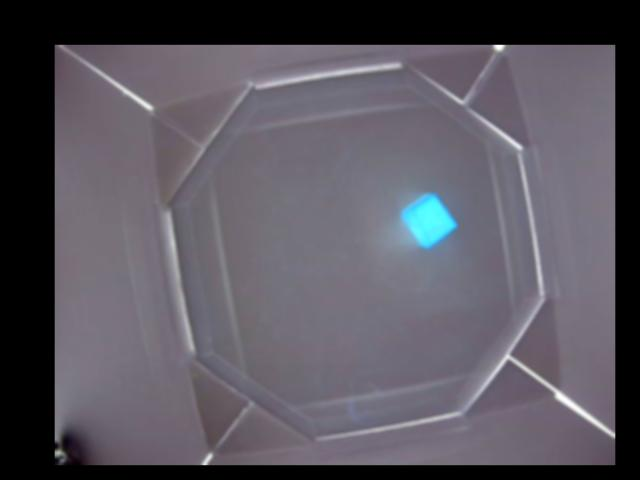Carrot: (403, 191, 457, 247)
